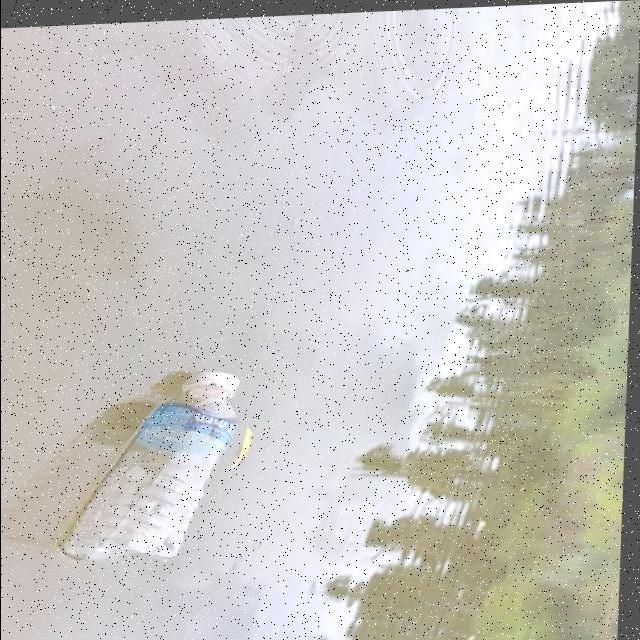Bottle: (58, 362, 248, 570)
